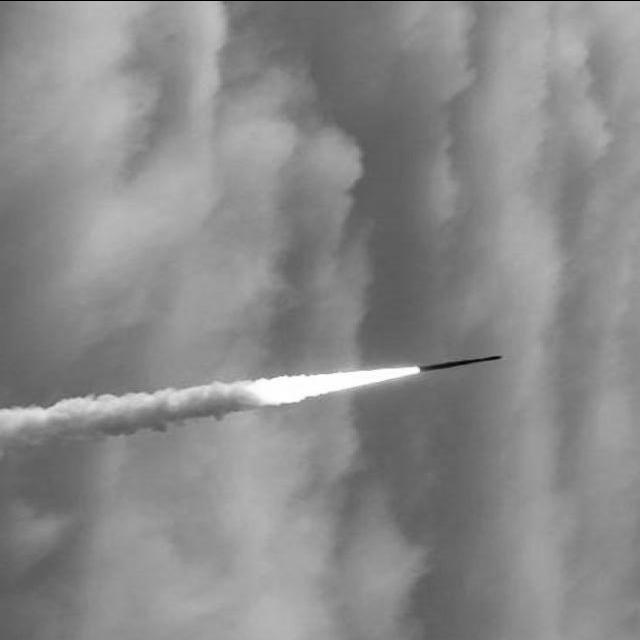Missile: (404, 350, 514, 374)
